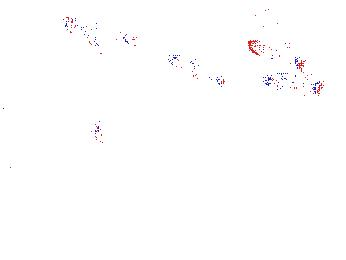X-ray fish: (88, 111, 110, 148)
redtail glassfish: (58, 14, 136, 52), (165, 51, 227, 89), (246, 37, 306, 71), (259, 72, 324, 100)
